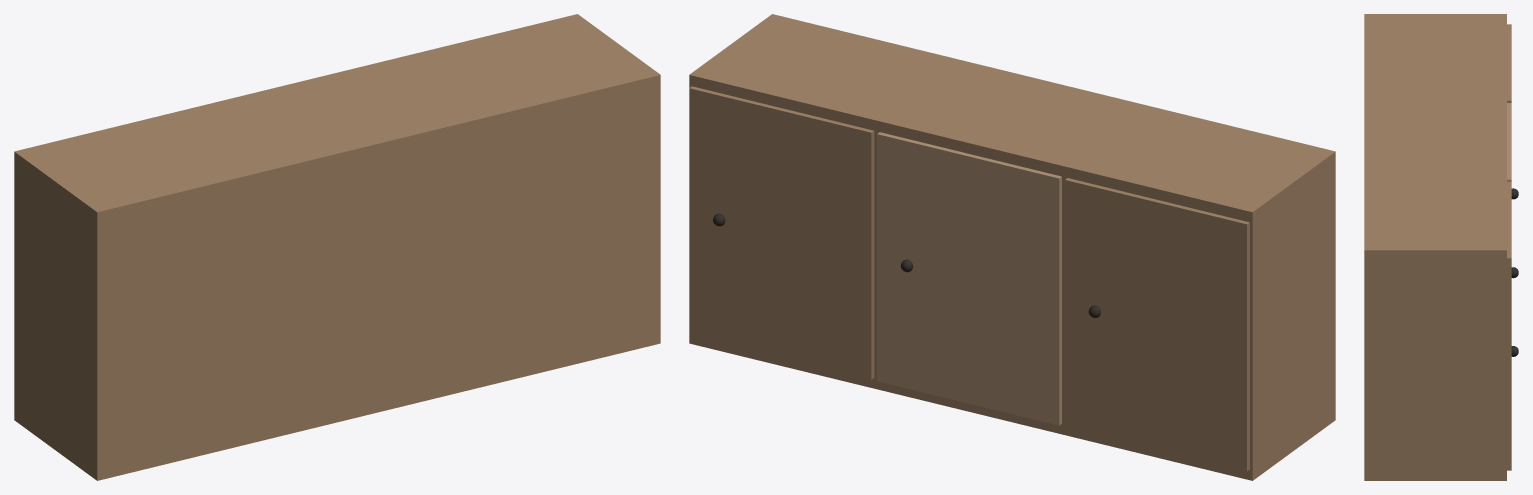
Rendered from q-media-20.glb.
3 views of the same model, side by side, from view 1: azimuth 30°, elevation 25°; view 2: azimuth 150°, elevation 25°; view 3: azimuth 270°, elevation 25° (orthographic). The views are drawn at different scales.
Parts seen in each view (by area): view 1: cabinet; view 2: cabinet, door-3, door-1, door-2; view 3: cabinet, door-3, door-1, door-2.
Part boxes in pixels (x1,y1,x2,y2): cabinet: [14, 14, 660, 480]; cabinet: [689, 14, 1335, 480]; door-3: [689, 86, 874, 379]; door-1: [1065, 178, 1249, 471]; door-2: [877, 132, 1061, 425]; cabinet: [1364, 14, 1506, 480]; door-3: [1507, 182, 1511, 470]; door-1: [1507, 24, 1511, 102]; door-2: [1507, 103, 1511, 181].
Size of the model in its own units: 1.8 by 0.82 by 0.4971.
